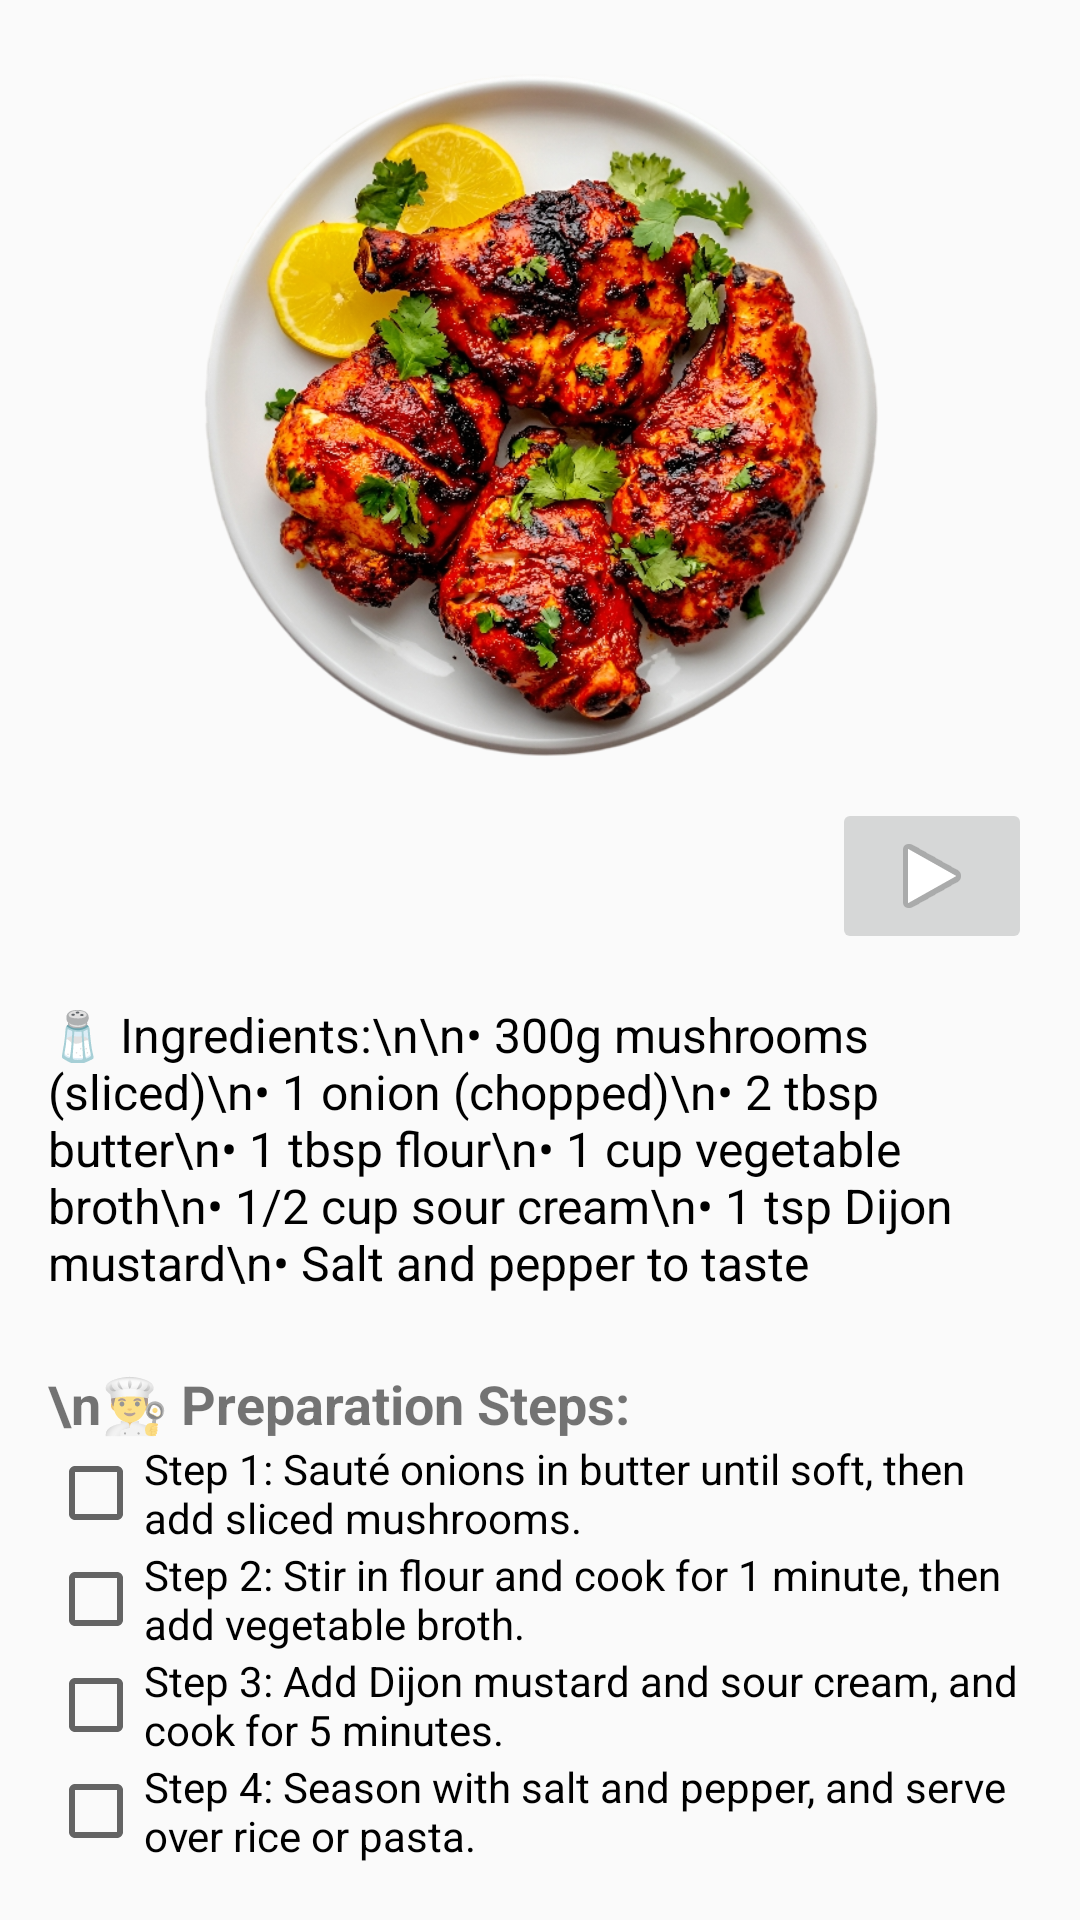

Icons on this 1080x1920 Android screen, each with the point to tap as point (x, y):
play: point (932, 876)
